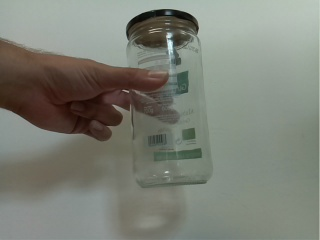pote cristal: (124, 8, 217, 191)
